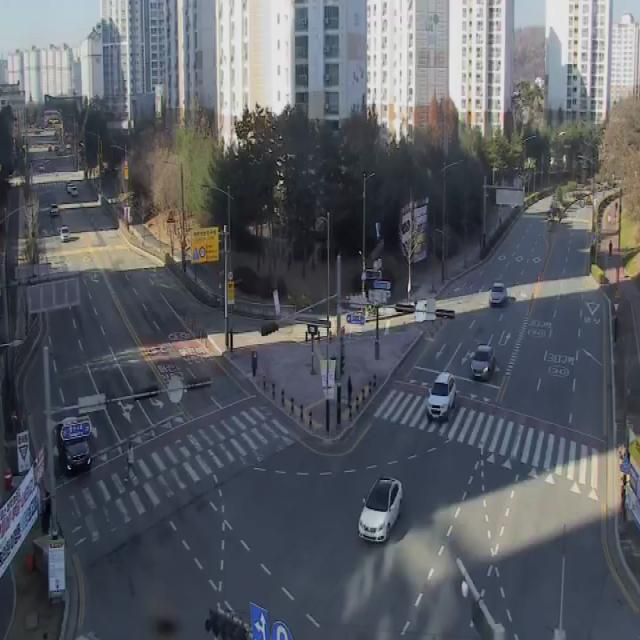Car: (358, 476, 402, 543), (55, 417, 90, 476), (427, 373, 456, 421), (471, 345, 495, 381), (489, 282, 507, 307), (60, 226, 71, 243), (50, 203, 59, 217)
